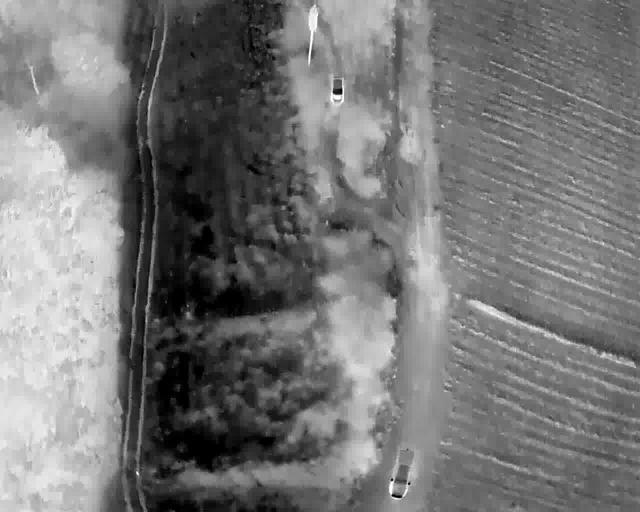car: (388, 448, 416, 500), (331, 75, 343, 102)
